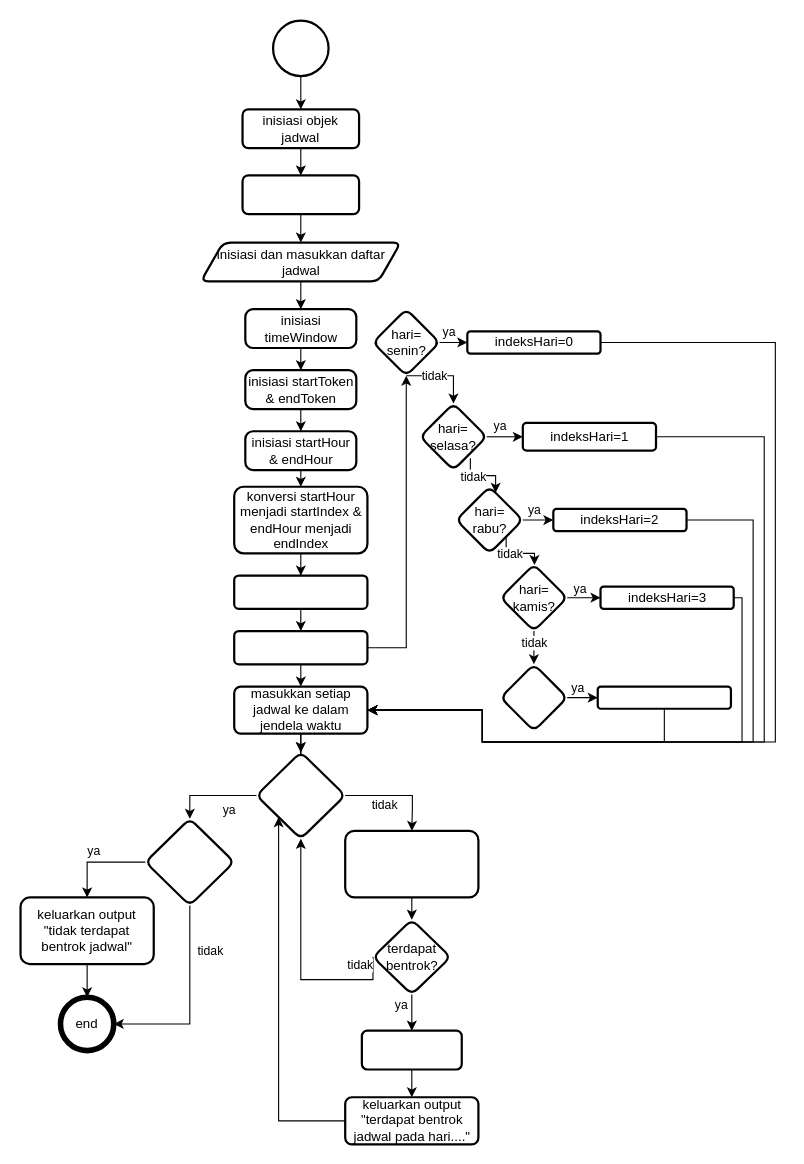
Image size: 804x1164. Some labels were removed from this diagram. Here are the shapes that lost their labels. From the top down, the centre of each, then its label:
pixel 300 48: Start
pixel 300 194: inisiasi conflicts = false
pixel 300 591: inisiasi indeksHari
pixel 300 647: petakan indeksHari
pixel 533 697: hari= jumat?
pixel 663 697: indeksHari=4
pixel 300 794: i = jumlah jadwal?
pixel 189 861: bentrok = false?
pixel 411 863: masukkan jadwal ke dalam timeWindow
pixel 411 1049: bentrok = true
